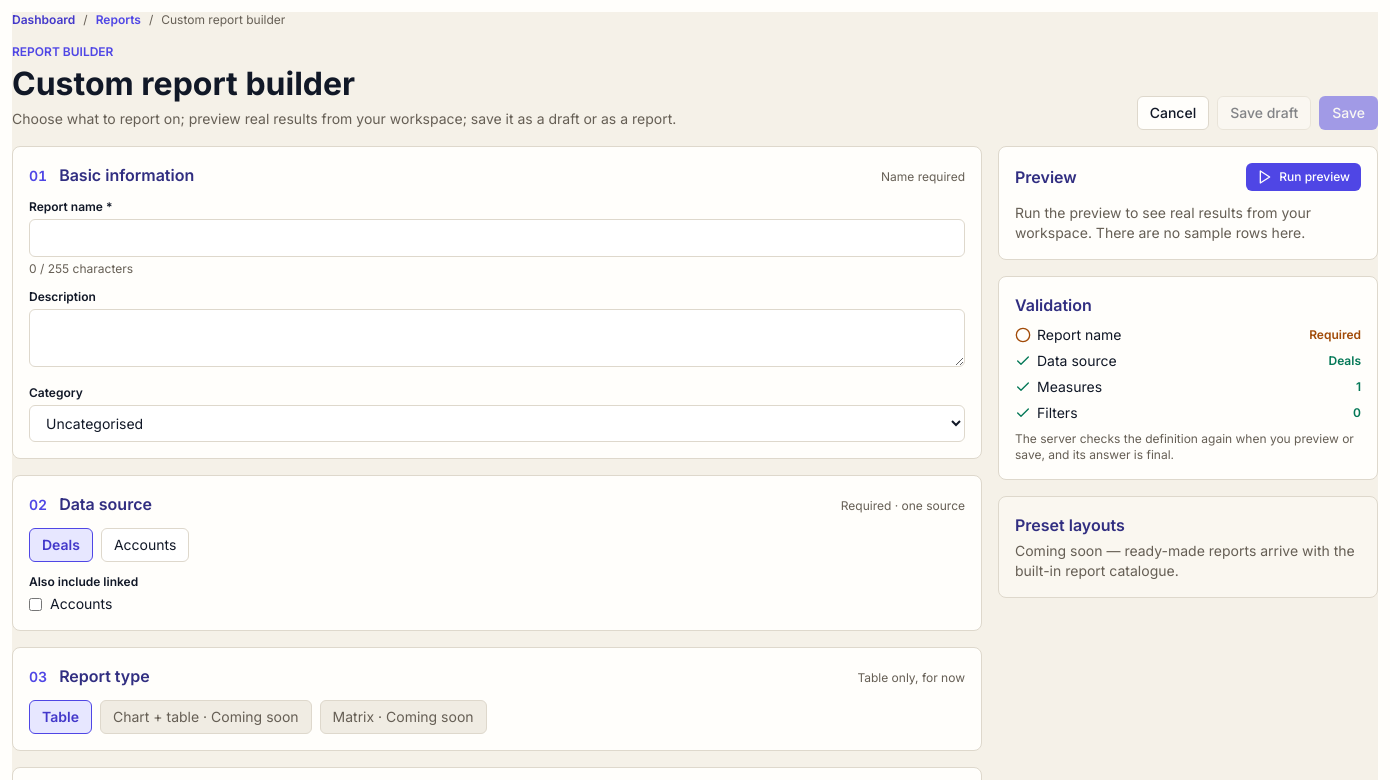
saving, and drafts › "Save" stores a saved report and says "Saved"
Check: the element named "Data source" is shown, box [29,528,189,562]
Type "Pipeline by source" into the field labelled "Report name *" at (497, 238), box [29,219,965,257]
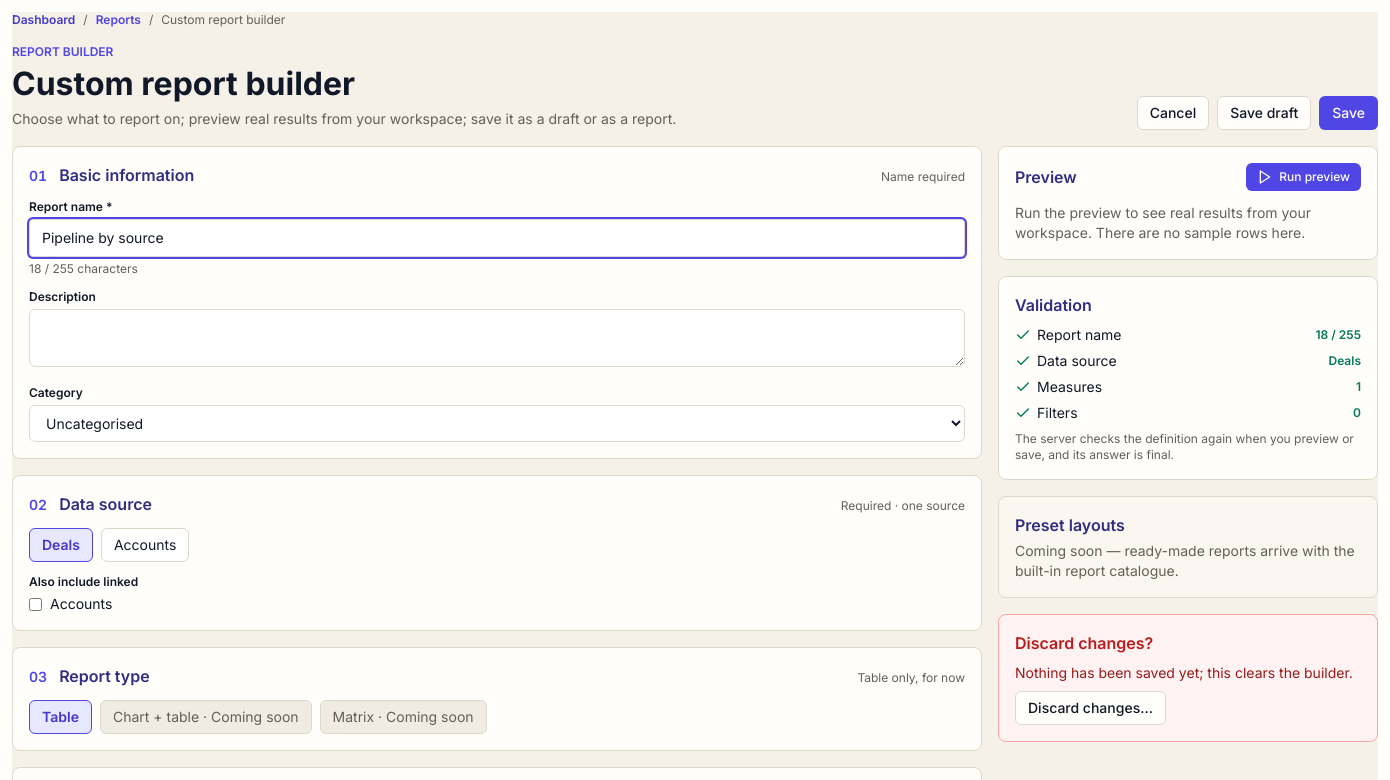
Click the button "Save" at (1349, 113), box [1319,96,1378,130]
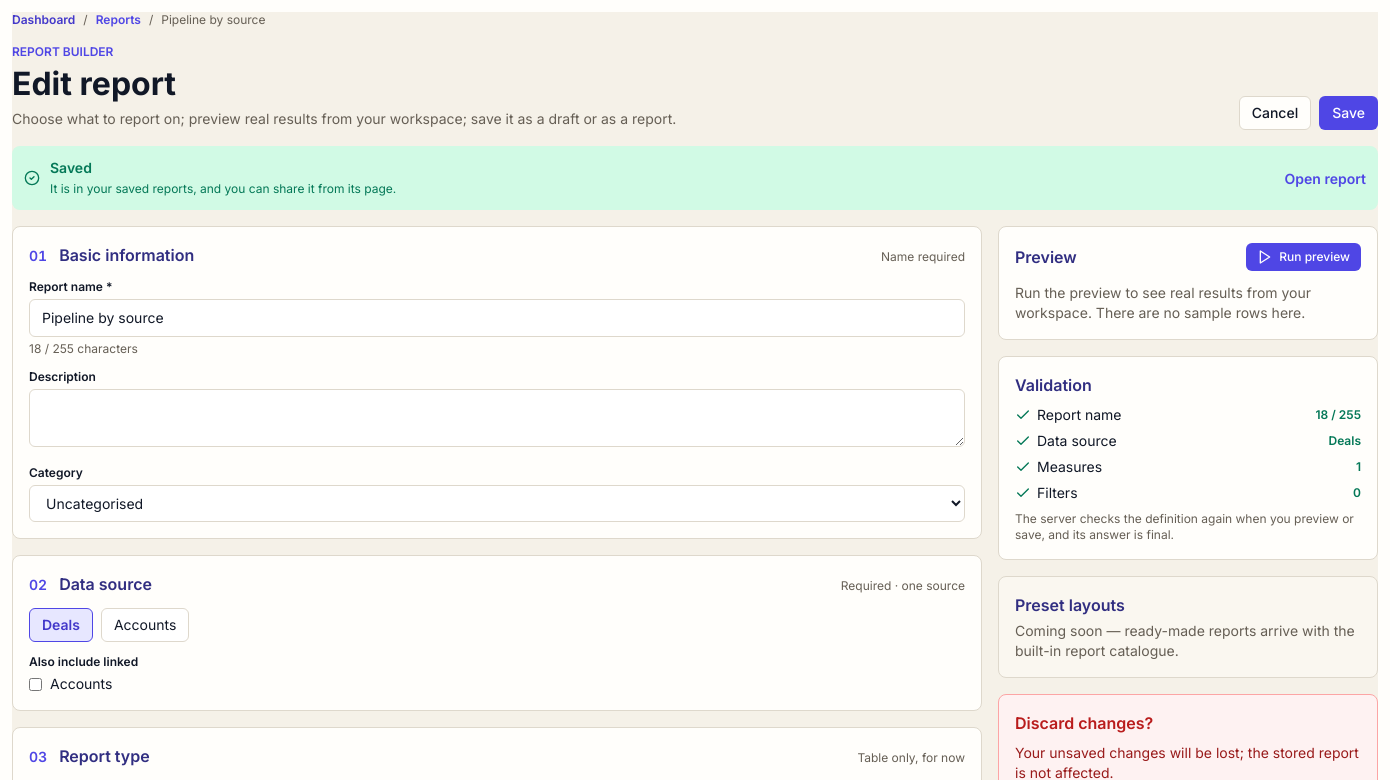
Check: the element with test id "save-result" does not show "Saved as draft", box [12,146,1378,210]
Check: the element with test id "save-result" shows "Saved", box [50,159,92,176]
